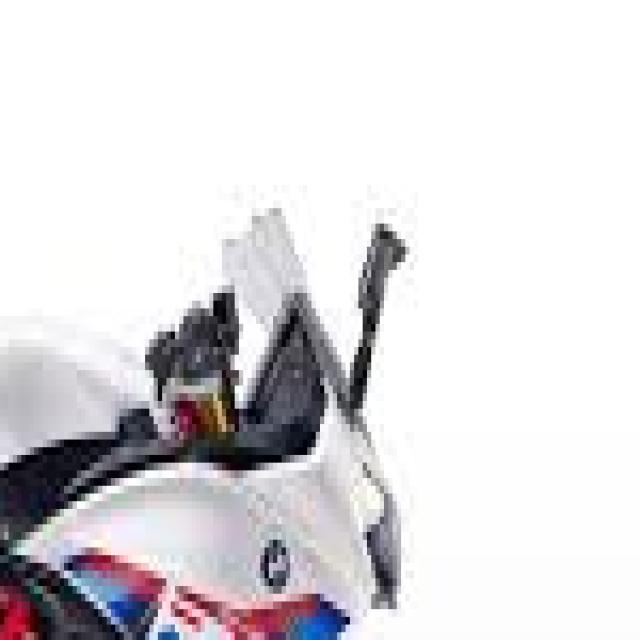bike: (0, 185, 486, 640)
